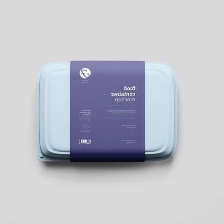plastic_box: (28, 53, 185, 168)
